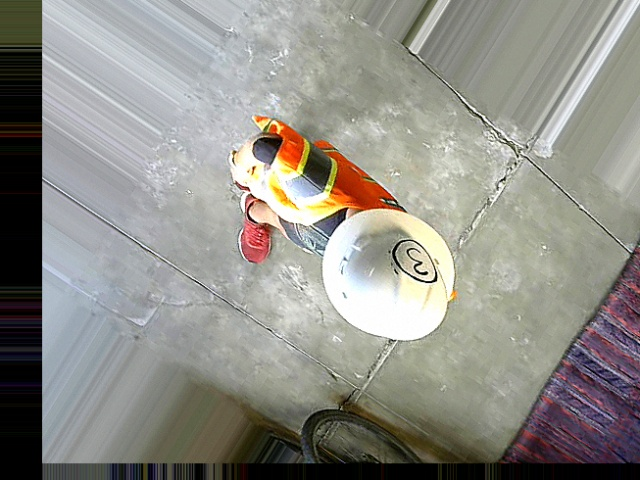three: (384, 231, 447, 289)
